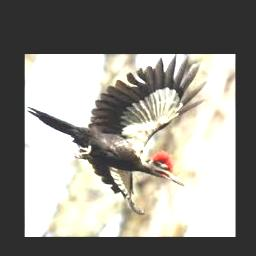Woodpecker: (26, 54, 207, 214)
